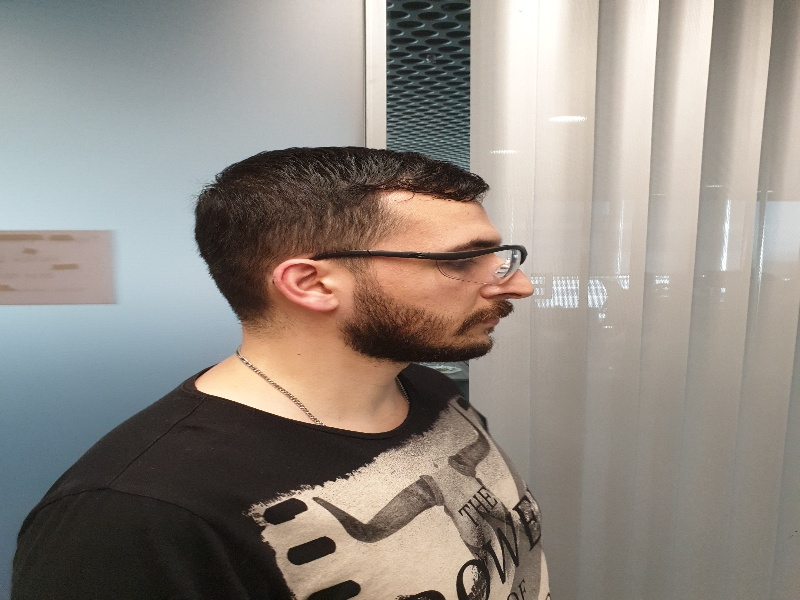Gozluk: (322, 245, 528, 284)
